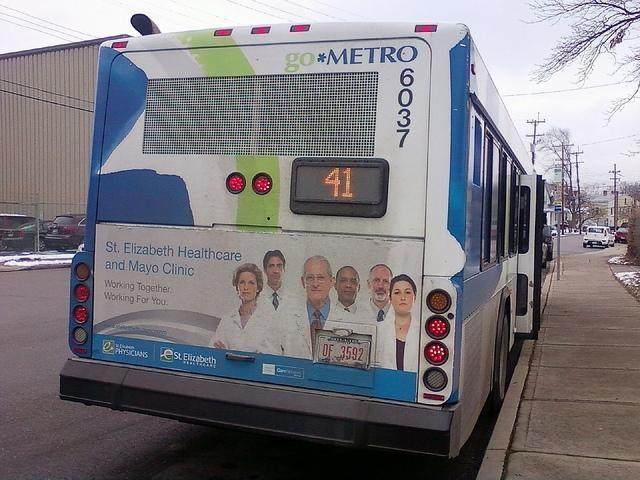bus: (58, 20, 554, 462)
car: (3, 220, 54, 253), (42, 214, 86, 252), (0, 214, 38, 250), (583, 226, 609, 248), (542, 225, 554, 258), (614, 228, 628, 244), (551, 226, 557, 235)
